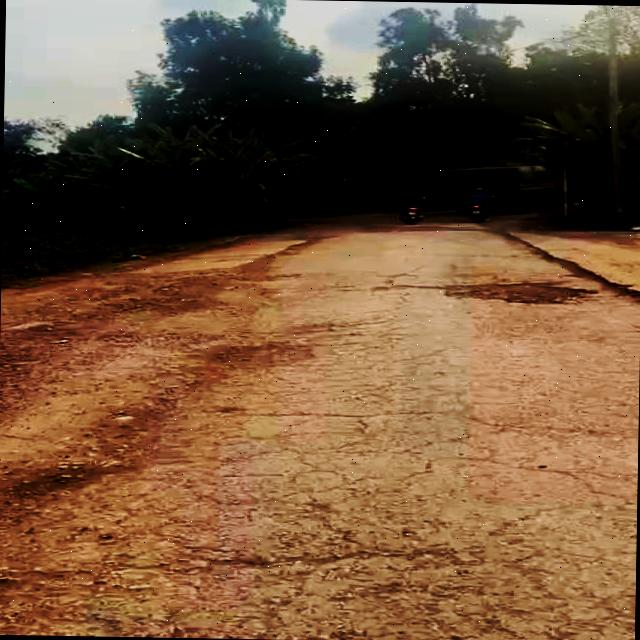pothole: (439, 277, 606, 306)
